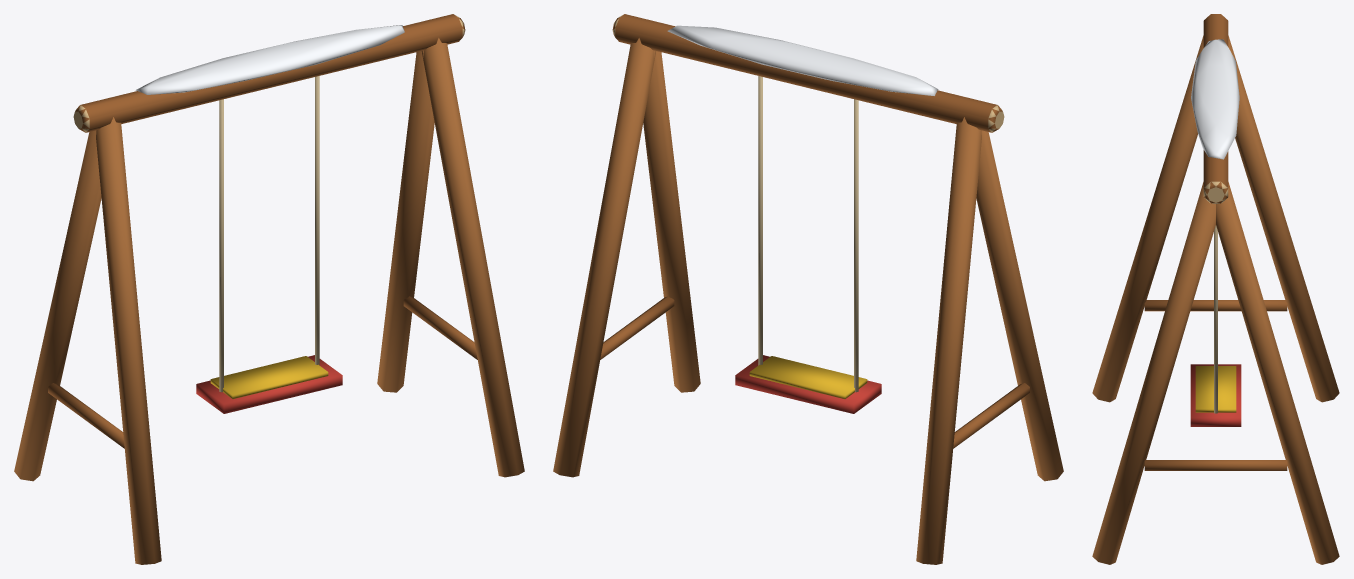
The model's file is deco_swing.glb.
The picture shows the model from 3 angles, left to right: view 1: azimuth 30°, elevation 25°; view 2: azimuth 150°, elevation 25°; view 3: azimuth 270°, elevation 25°; orthographic projection. The views are drawn at different scales.
Parts seen in each view (by area): view 1: deco_swing; view 2: deco_swing; view 3: deco_swing.
Boxes of the visible parts, bbox=[...] form: deco_swing: bbox=[14, 14, 524, 564]; deco_swing: bbox=[553, 14, 1063, 564]; deco_swing: bbox=[1092, 14, 1339, 564].
Size of the model in its own units: 2 by 2.11 by 1.22.
